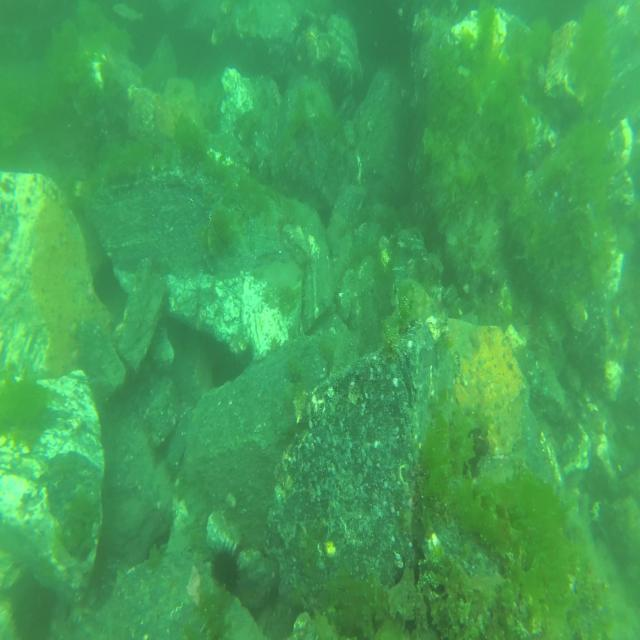echinus: (209, 539, 243, 596), (441, 255, 460, 290)
